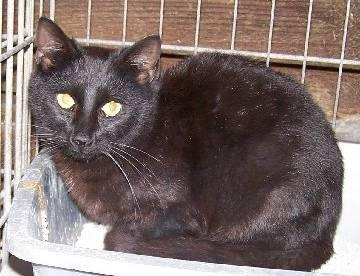cat: (29, 17, 342, 269)
